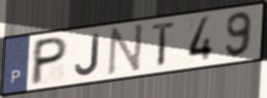4: (185, 14, 216, 65)
9: (224, 10, 255, 59)
J: (73, 31, 102, 77)
N: (105, 21, 146, 77)
P: (28, 35, 71, 88)
T: (150, 19, 179, 70)
